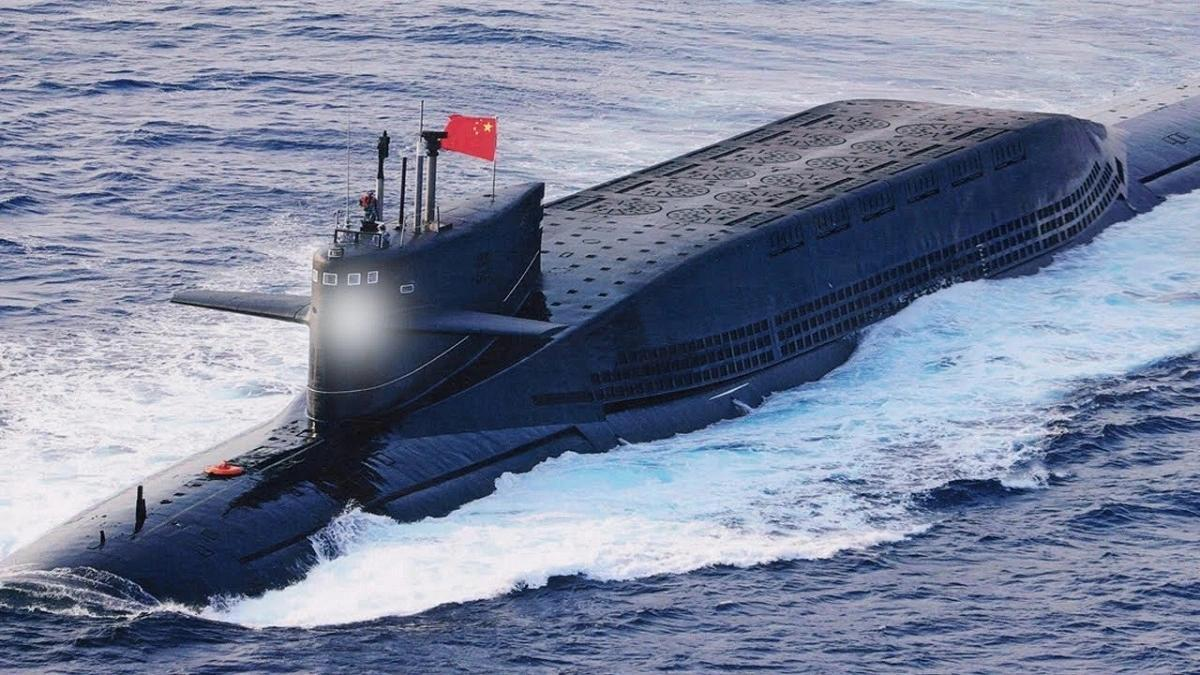Submarine: (0, 23, 1200, 640)
